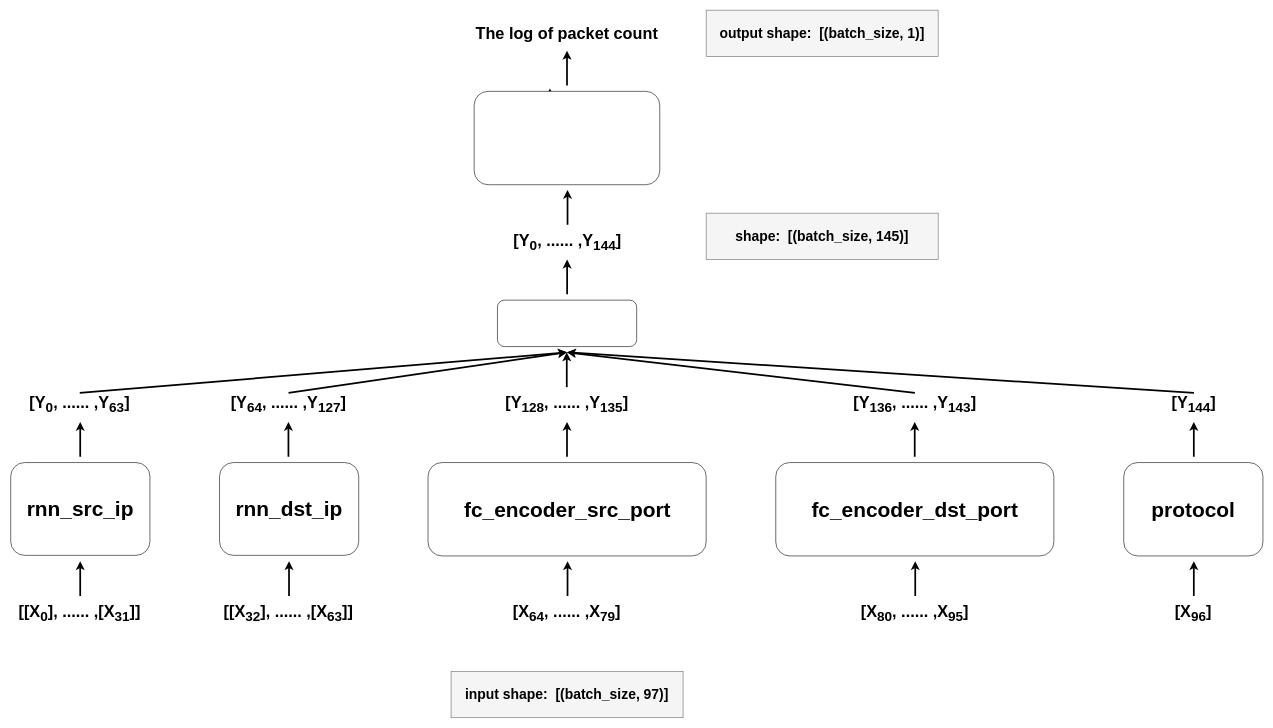
Image size: 1273x728. Some labels were removed from this diagram. Each missing label, with the centre of its shape:
concat: pixel 567 323
final_fc: pixel 567 138
